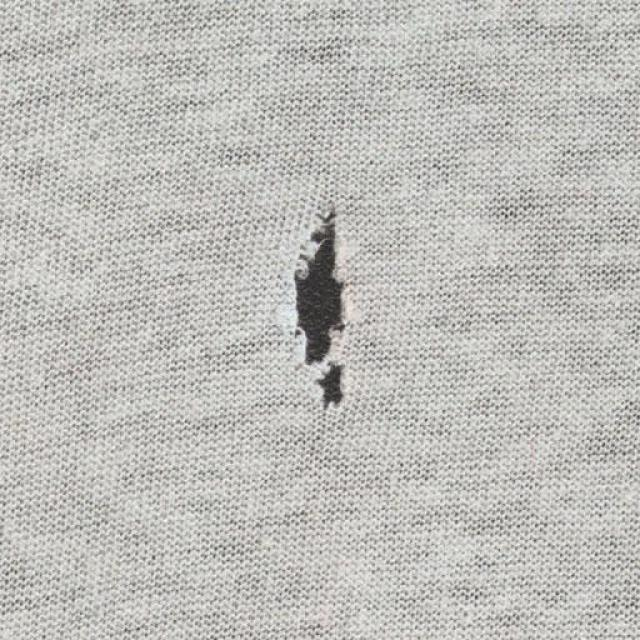Hole: (276, 198, 354, 409)
